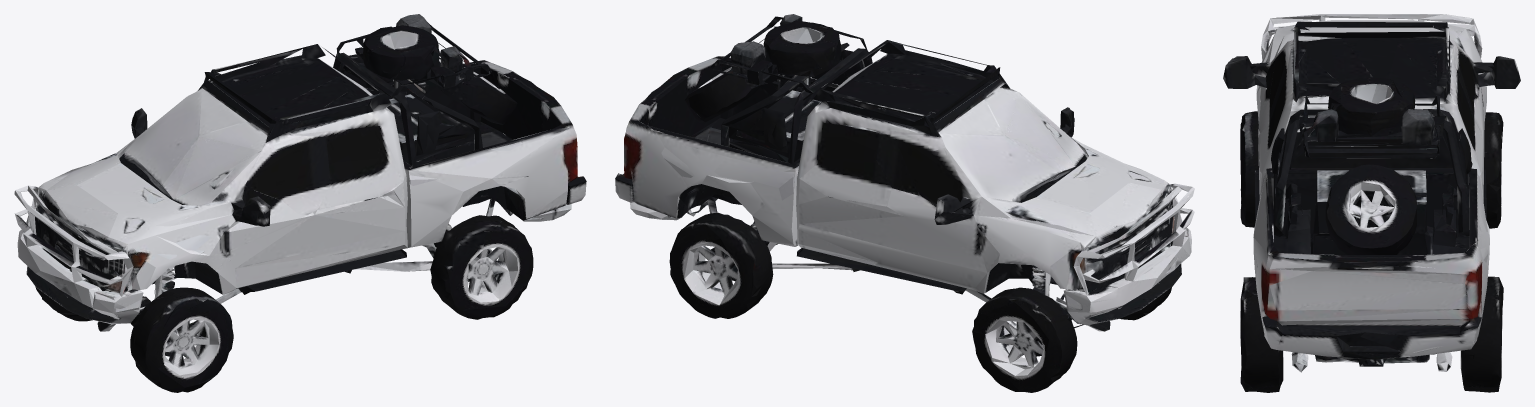
The model's file is pickup.glb.
3 views of the same model, side by side, from view 1: azimuth 30°, elevation 25°; view 2: azimuth 150°, elevation 25°; view 3: azimuth 270°, elevation 25° (orthographic). The views are drawn at different scales.
Size of the model in its own units: 1.9 by 0.9017 by 0.8725.
1 material, 1 textured.
